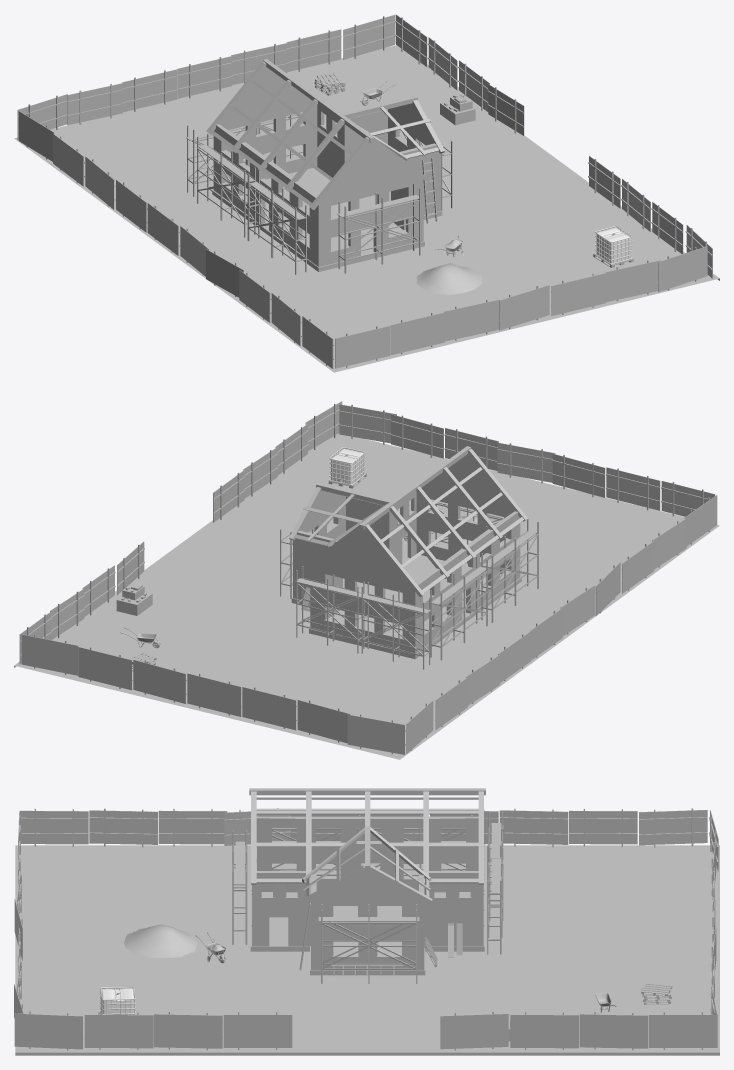
Rendered from construction building.fbx.
3 renders of one model, top to bottom at view 1: azimuth 30°, elevation 25°; view 2: azimuth 150°, elevation 25°; view 3: azimuth 270°, elevation 25°, orthographic. The views are drawn at different scales.
Visible parts, largest first — view 1: _gltfNode_116, _gltfNode_30, _gltfNode_120, _gltfNode_32, _gltfNode_122, _gltfNode_130, _gltfNode_58, _gltfNode_94, _gltfNode_50, _gltfNode_54, _gltfNode_84, _gltfNode_88 (+30 smaller); view 2: _gltfNode_116, _gltfNode_30, _gltfNode_120, _gltfNode_32, _gltfNode_126, _gltfNode_132, _gltfNode_62, _gltfNode_56, _gltfNode_90, _gltfNode_128, _gltfNode_60, _gltfNode_88 (+30 smaller); view 3: _gltfNode_116, _gltfNode_30, _gltfNode_120, _gltfNode_32, _gltfNode_44, _gltfNode_38, _gltfNode_80, _gltfNode_36, _gltfNode_40, _gltfNode_70, _gltfNode_48, _gltfNode_68 (+19 smaller).
Boxes of the visible parts, x1,y1,x2,y2 form: _gltfNode_116: (14, 45, 719, 372); _gltfNode_30: (213, 67, 440, 266); _gltfNode_120: (206, 59, 444, 209); _gltfNode_32: (212, 168, 442, 271); _gltfNode_122: (338, 183, 420, 273); _gltfNode_130: (247, 171, 306, 274); _gltfNode_58: (67, 83, 123, 125); _gltfNode_94: (551, 273, 606, 315); _gltfNode_50: (177, 56, 232, 98); _gltfNode_54: (286, 29, 341, 71); _gltfNode_84: (334, 326, 389, 368); _gltfNode_88: (390, 312, 444, 355); _gltfNode_116: (14, 433, 719, 759); _gltfNode_30: (293, 454, 520, 653); _gltfNode_120: (289, 446, 527, 597); _gltfNode_32: (291, 555, 521, 659); _gltfNode_126: (296, 566, 364, 653); _gltfNode_132: (361, 582, 430, 669); _gltfNode_62: (347, 714, 405, 754); _gltfNode_56: (21, 634, 78, 675); _gltfNode_90: (497, 442, 555, 483); _gltfNode_128: (430, 556, 487, 660); _gltfNode_60: (242, 687, 296, 730); _gltfNode_88: (606, 467, 660, 510); _gltfNode_116: (15, 845, 719, 1055); _gltfNode_30: (252, 816, 483, 970); _gltfNode_120: (249, 788, 485, 903); _gltfNode_32: (250, 890, 484, 975); _gltfNode_44: (579, 1011, 648, 1050); _gltfNode_38: (84, 1012, 153, 1049); _gltfNode_80: (89, 808, 157, 847); _gltfNode_36: (154, 1011, 222, 1050); _gltfNode_40: (14, 1011, 83, 1050); _gltfNode_70: (639, 808, 707, 847); _gltfNode_48: (440, 1011, 508, 1050); _gltfNode_68: (569, 808, 637, 846).
Bounding box in the file's own units: 3262 × 997 × 4669.
